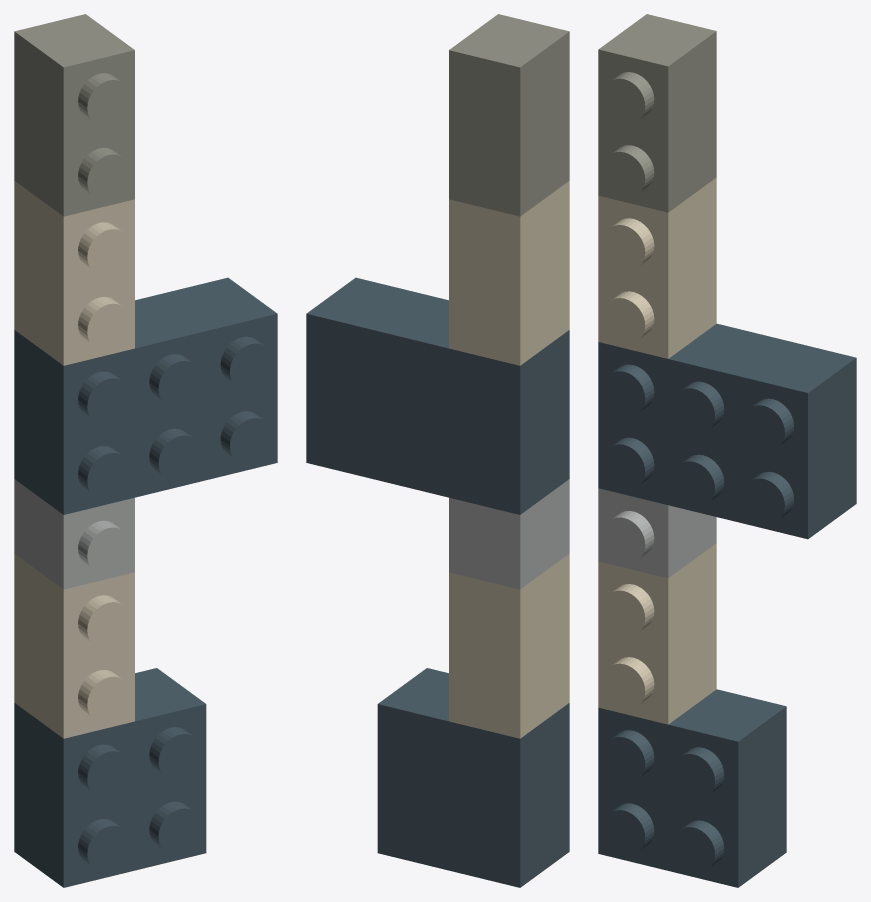
The model's file is current.glb.
The picture shows the model from 3 angles, left to right: view 1: azimuth 30°, elevation 25°; view 2: azimuth 150°, elevation 25°; view 3: azimuth 330°, elevation 25°; orthographic projection.
Parts seen in each view (by area): view 1: world; view 2: world; view 3: world.
Part boxes in pixels (left/top/right/bottom): world: left=14, top=14, right=277, bottom=887; world: left=306, top=14, right=569, bottom=887; world: left=598, top=14, right=856, bottom=887.
Size of the model in its own units: 24 by 88 by 11.4.
